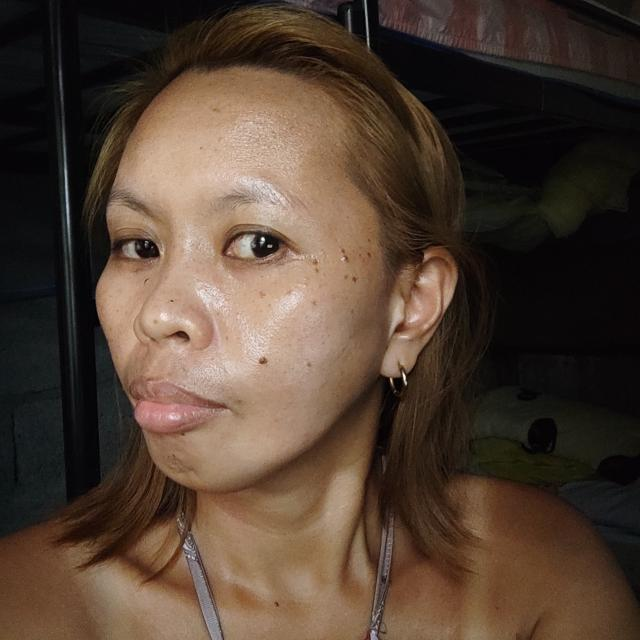Englarged-Pores: (235, 308, 293, 348), (200, 276, 232, 312)
